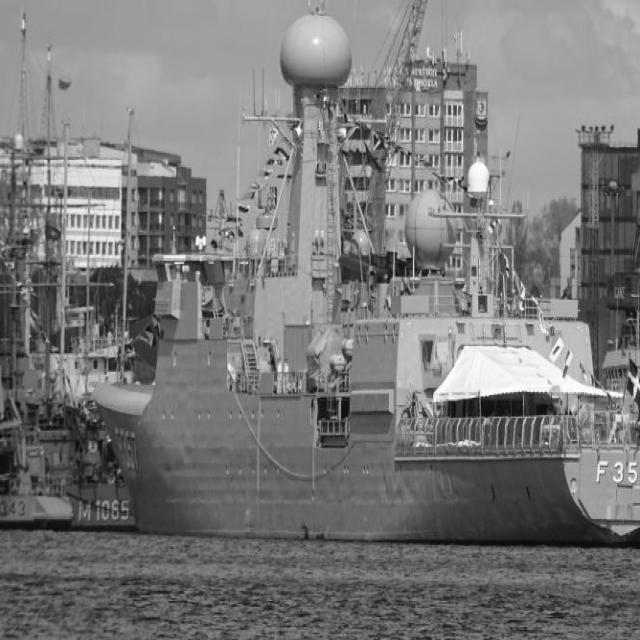Fragata: (77, 5, 640, 544)
